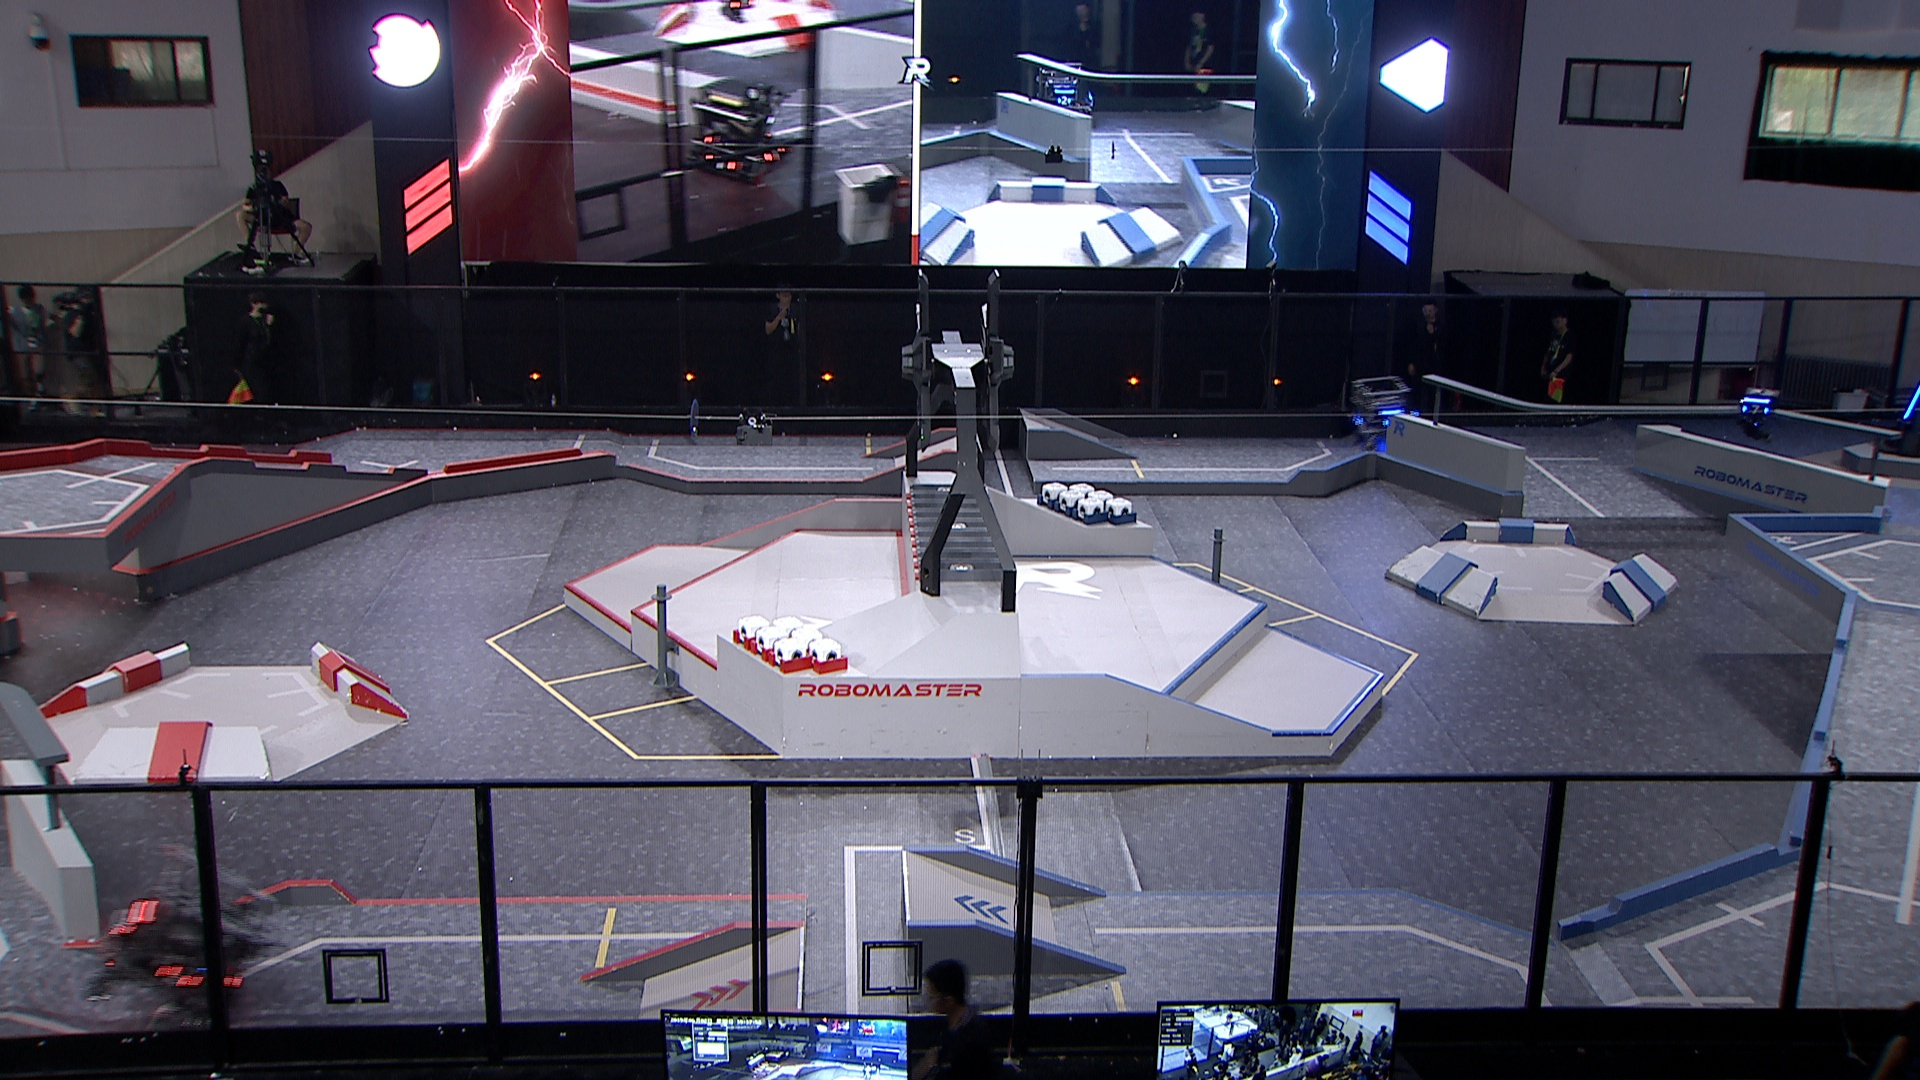armor: (153, 963, 204, 993), (1902, 385, 1920, 425), (1741, 404, 1770, 415)
base: (1875, 363, 1920, 460)
car: (83, 845, 276, 1025), (1344, 375, 1422, 446)
ignore: (683, 78, 793, 182), (1033, 61, 1097, 117)
watcher: (1735, 386, 1775, 438)
